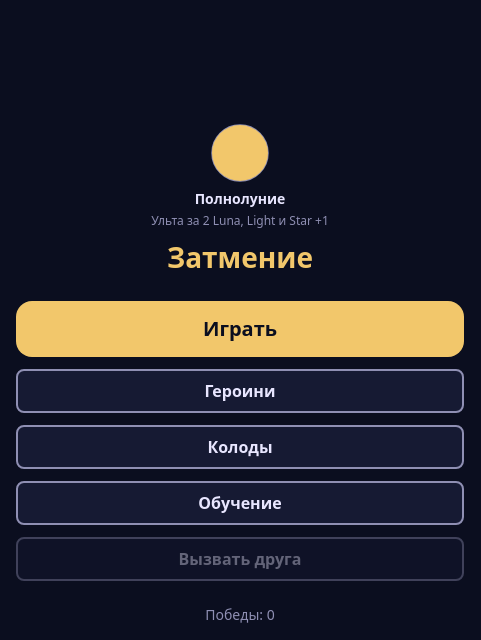
Test case: главное меню › при tutorialStep 3 без колоды «Играть» ведёт в колоды с подсказкой
Click the button "Играть".
click(240, 329)  # box [16,301,464,357]
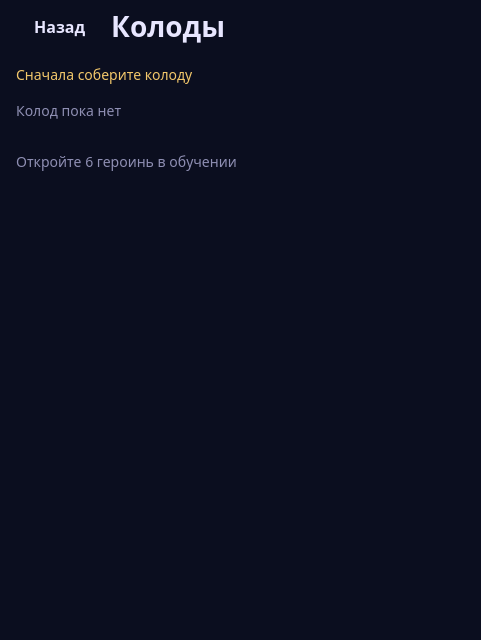
Check: the text "Сначала соберите колоду" is shown, box [16,65,192,84]
